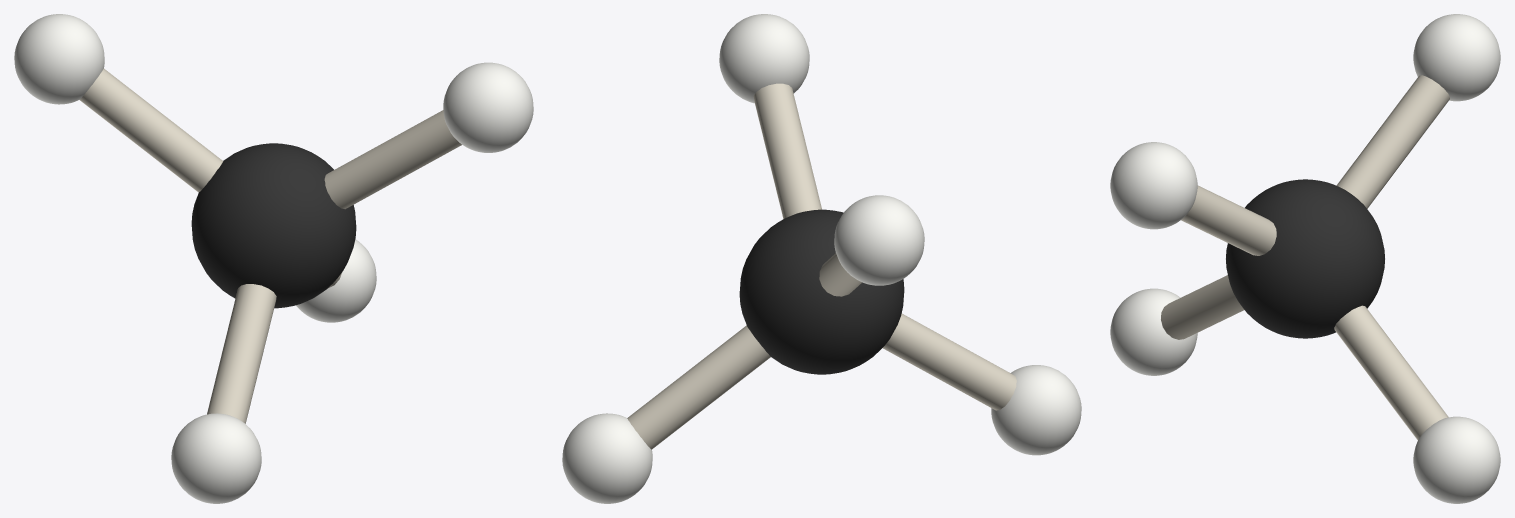
The picture shows the model from 3 angles, left to right: view 1: azimuth 30°, elevation 25°; view 2: azimuth 150°, elevation 25°; view 3: azimuth 270°, elevation 25°; orthographic projection. The views are drawn at different scales.
Visible parts, largest first — view 1: C_0, H_4, H_1, H_3, bond_2, bond_0, bond_3, H_2; view 2: C_0, H_3, H_2, bond_1, H_4, H_1, bond_3, bond_0, bond_2; view 3: C_0, H_1, H_2, H_3, bond_1, bond_2, H_4, bond_0, bond_3.
Boxes of the visible parts, box(x1,y1,x2,y2) form: C_0: box(191, 143, 356, 308); H_4: box(171, 413, 261, 503); H_1: box(443, 62, 533, 152); H_3: box(14, 14, 104, 104); bond_2: box(79, 68, 223, 192); bond_0: box(324, 110, 461, 209); bond_3: box(207, 284, 276, 423); H_2: box(296, 239, 376, 322); C_0: box(739, 209, 904, 374); H_3: box(834, 195, 924, 285); H_2: box(562, 413, 652, 503); bond_1: box(627, 325, 770, 449); H_4: box(991, 365, 1081, 455); H_1: box(719, 14, 809, 103); bond_3: box(883, 313, 1016, 410); bond_0: box(753, 83, 821, 218); bond_2: box(819, 253, 861, 296); C_0: box(1226, 179, 1384, 338); H_1: box(1110, 142, 1197, 229); H_2: box(1413, 416, 1500, 503); H_3: box(1413, 14, 1500, 101); bond_1: box(1334, 305, 1448, 440); bond_2: box(1336, 75, 1449, 208); H_4: box(1110, 288, 1197, 375); bond_0: box(1181, 185, 1276, 255); bond_3: box(1161, 275, 1244, 339).
Size of the model in its own units: 0.4018 by 0.4018 by 0.4018.
